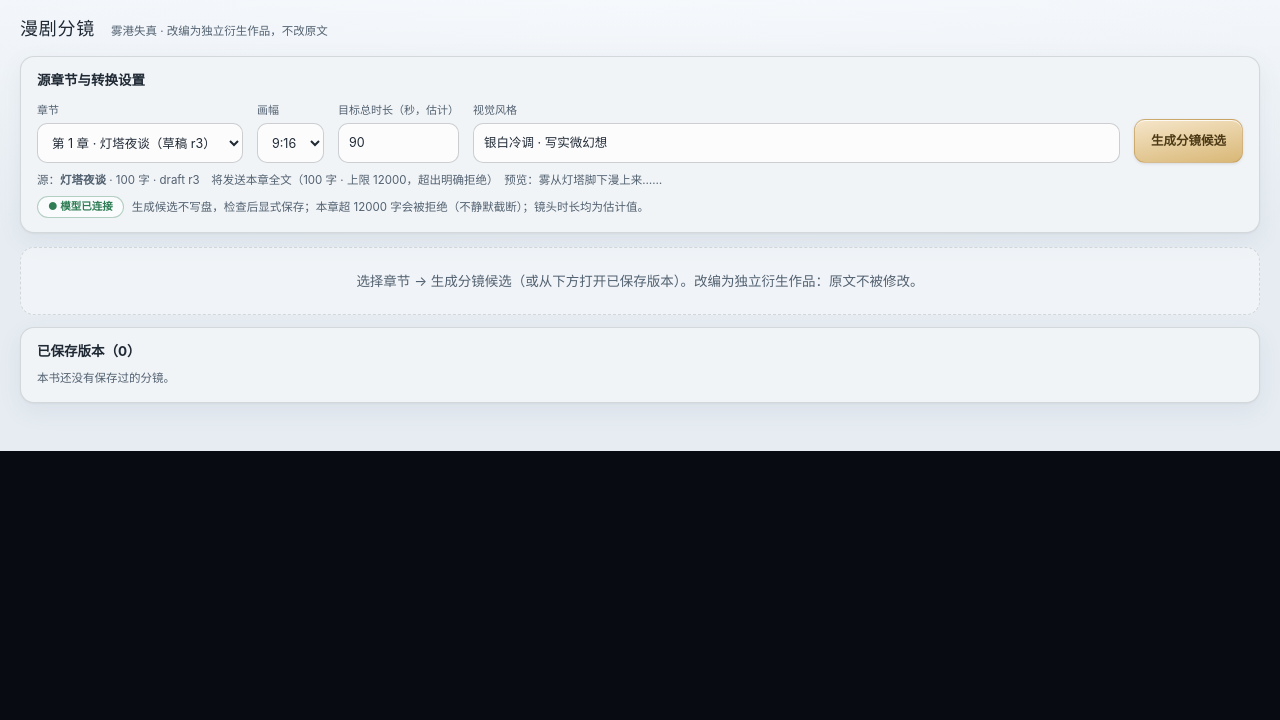
it: StoryboardView（T04 闭环） › 生成候选 → 镜头卡呈现画面/对白/时长/提示词；背面含原文锚与改编说明
Expected: the element with test id "sb-source-info" is shown, [37,173,662,187]
What coordinates should you click on to do the following:
click the button with test id "sb-generate"
I would click on:
 (1188, 141)
Its box is [1134,119,1243,163].
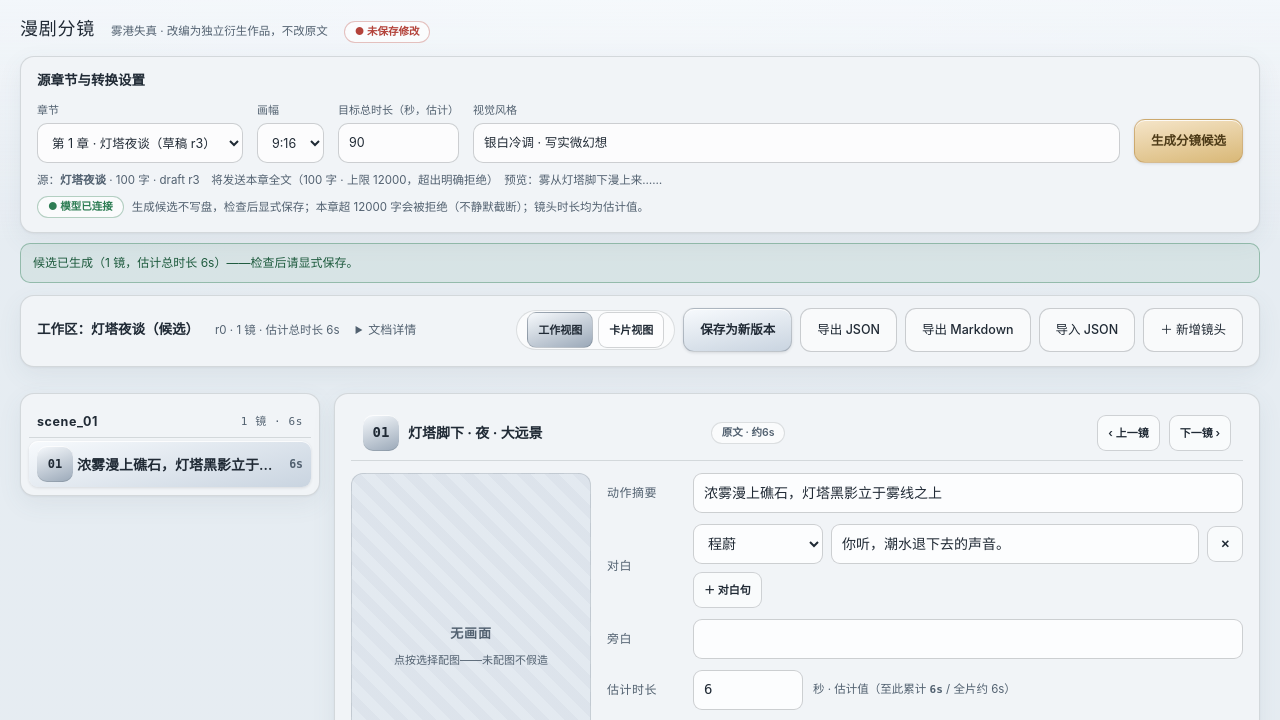
Expected: the button with test id "sb-seq-1" is shown, [29,442,311,488]
Note: 切卡片视图：原文锚/背面等卡面元素
What coordinates should you click on to do the following:
click the button with test id "sb-view-cards"
I would click on:
 (631, 330)
Its box is [598,312,664,348].
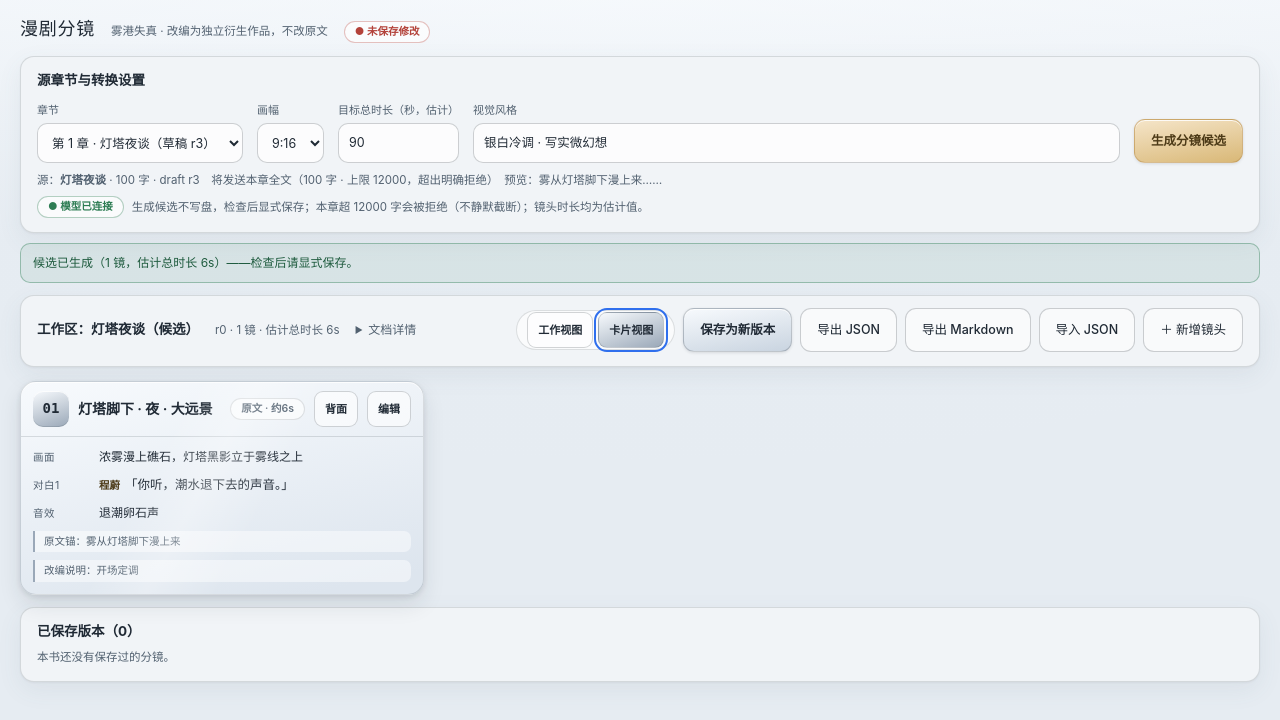
Expected: the text "浓雾漫上礁石，灯塔黑影立于雾线之上" is shown, [99,449,303,464]
Expected: the text "原文 · 约6s" is shown, [230,398,305,420]
Expected: the text "程蔚「你听，潮水退下去的声音。」" is shown, [99,478,294,492]
What coordinates should you click on to do the following:
click the button "背面"
I would click on:
 (336, 409)
Its box is [314,391,358,427].
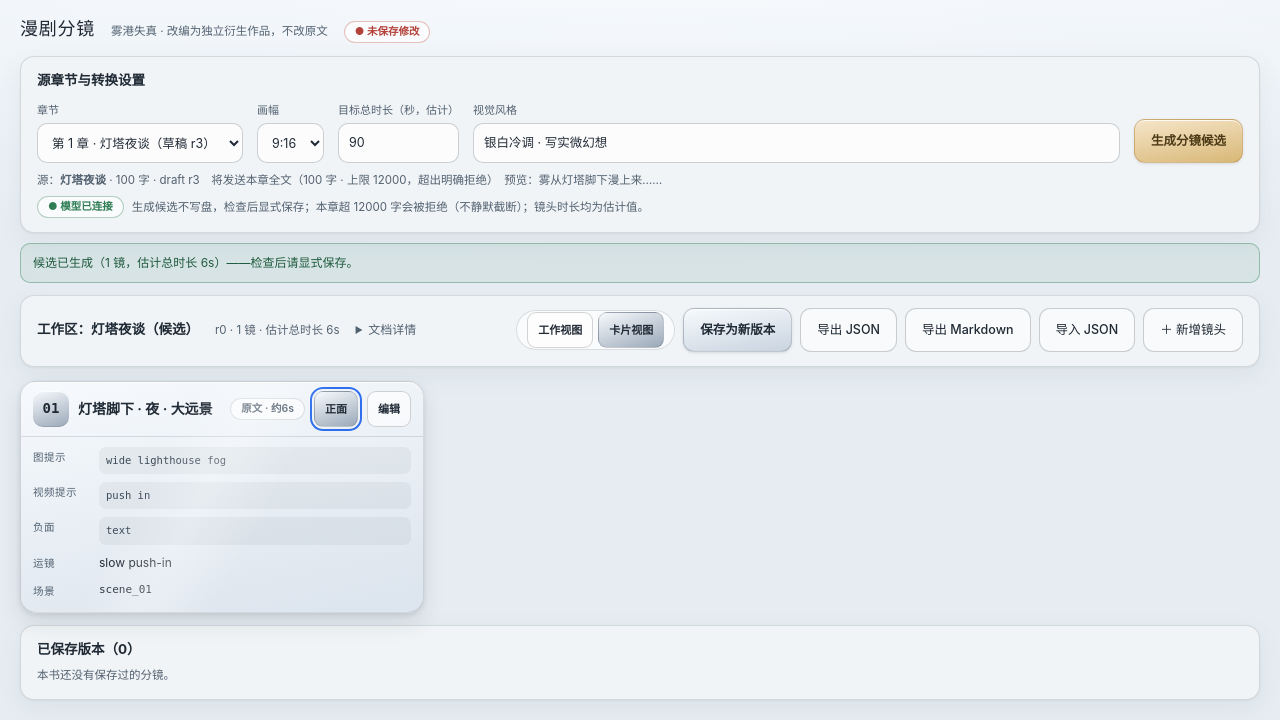
Expected: the text "wide lighthouse fog" is shown, [99,447,411,474]
